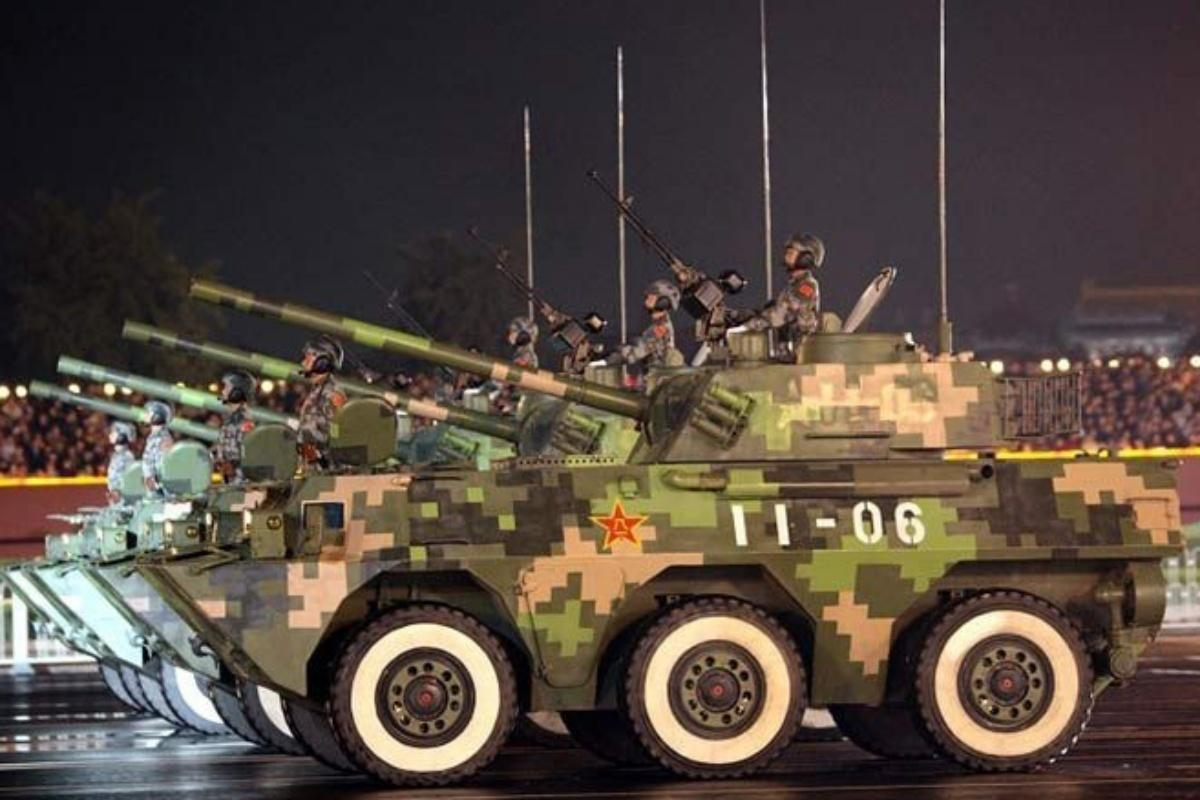MIL_IFV: (148, 298, 1182, 781)
